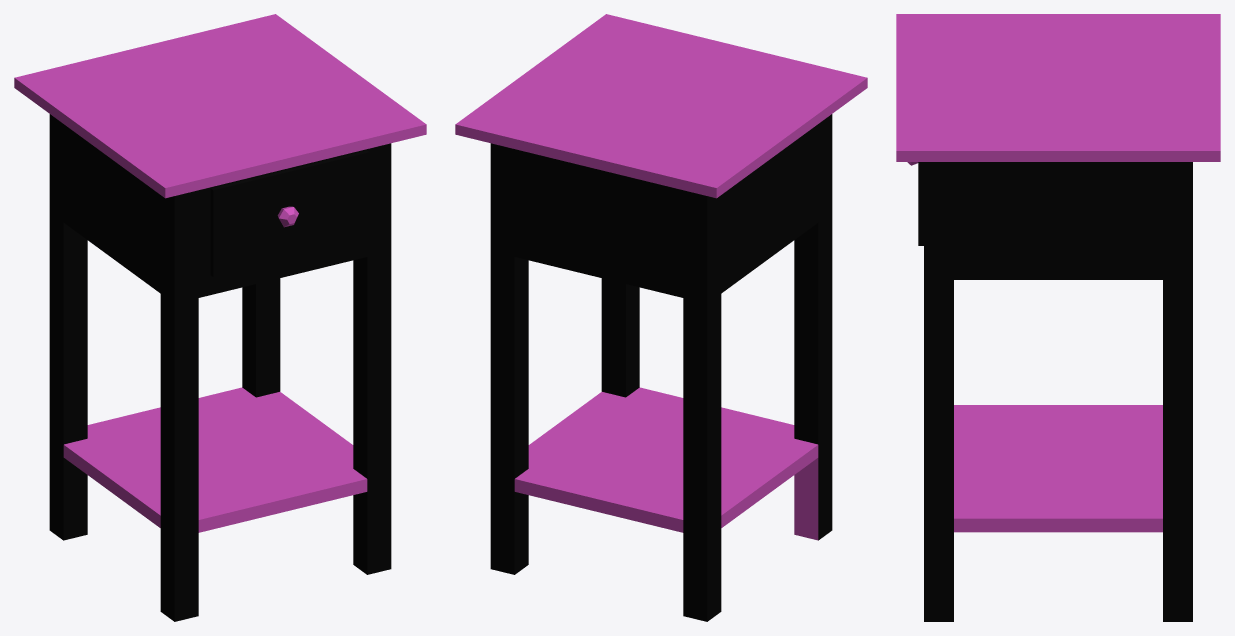
Rendered from nightstand (3).fbx.
The picture shows the model from 3 angles, left to right: view 1: azimuth 30°, elevation 25°; view 2: azimuth 150°, elevation 25°; view 3: azimuth 270°, elevation 25°; orthographic projection. The views are drawn at different scales.
Visible parts, largest first — view 1: Plane; view 2: Plane; view 3: Plane.
Boxes of the visible parts, x1,y1,x2,y2 form: Plane: [14, 14, 426, 621]; Plane: [455, 14, 867, 621]; Plane: [896, 14, 1220, 621].
Size of the model in its own units: 228 by 374 by 228.
